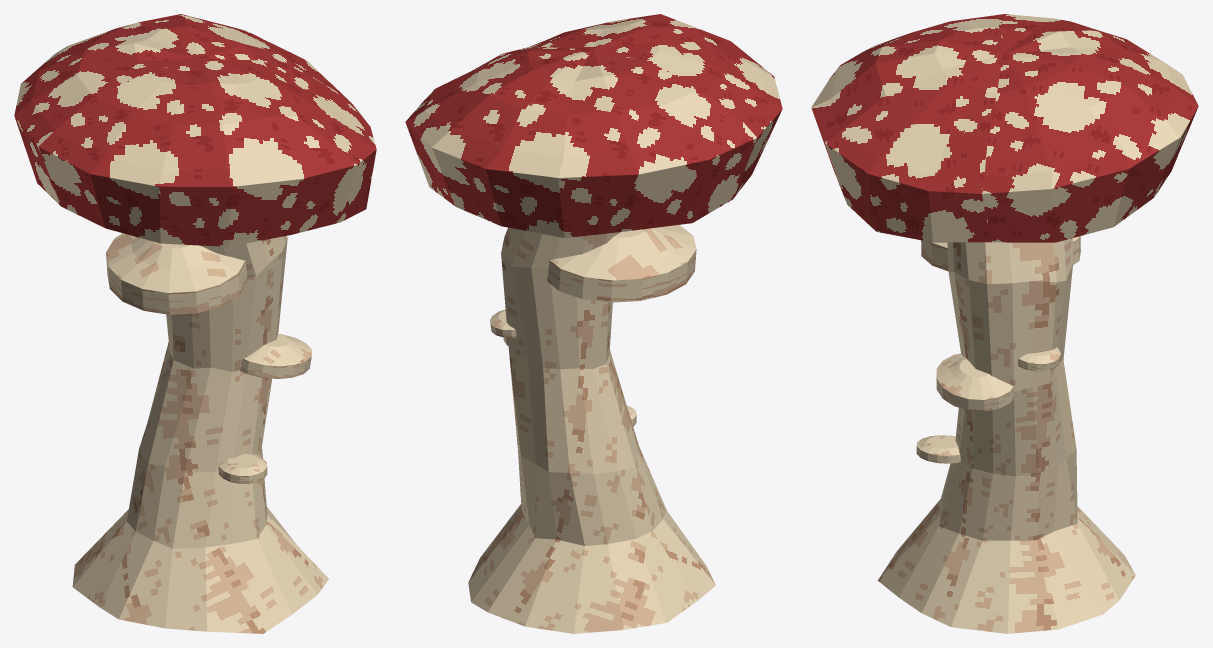
Rendered from mushroom_small.fbx.
The picture shows the model from 3 angles, left to right: view 1: azimuth 30°, elevation 25°; view 2: azimuth 150°, elevation 25°; view 3: azimuth 270°, elevation 25°; orthographic projection.
Parts seen in each view (by area): view 1: Mushroom_Mid; view 2: Mushroom_Mid; view 3: Mushroom_Mid.
Part boxes in pixels (x1,y1,x2,y2): Mushroom_Mid: (14,14,376,633); Mushroom_Mid: (405,14,782,633); Mushroom_Mid: (811,14,1198,633).
Size of the model in its own units: 580 by 973 by 641.
